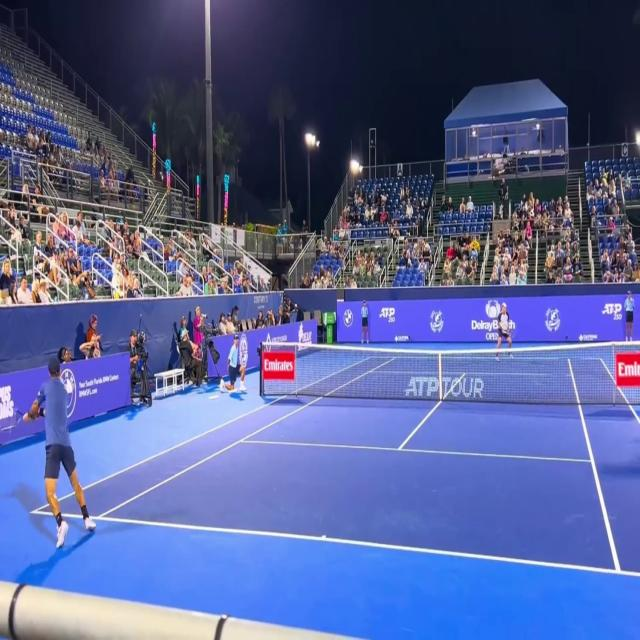tennisBall: (61, 373, 78, 405)
